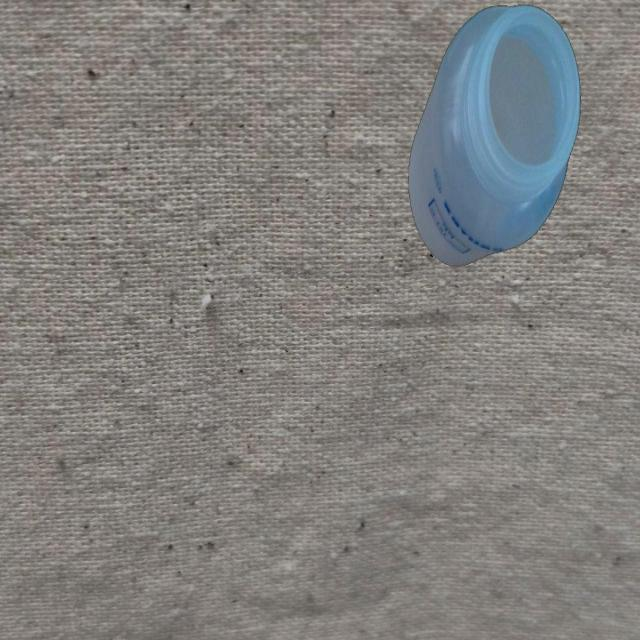bottle: (406, 4, 584, 271)
